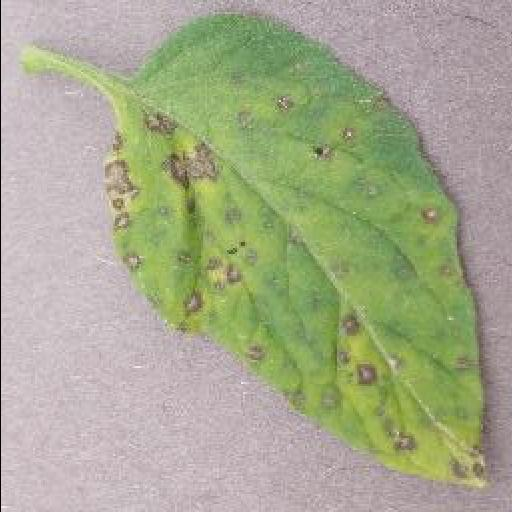disease_tomato: (96, 11, 486, 491)
